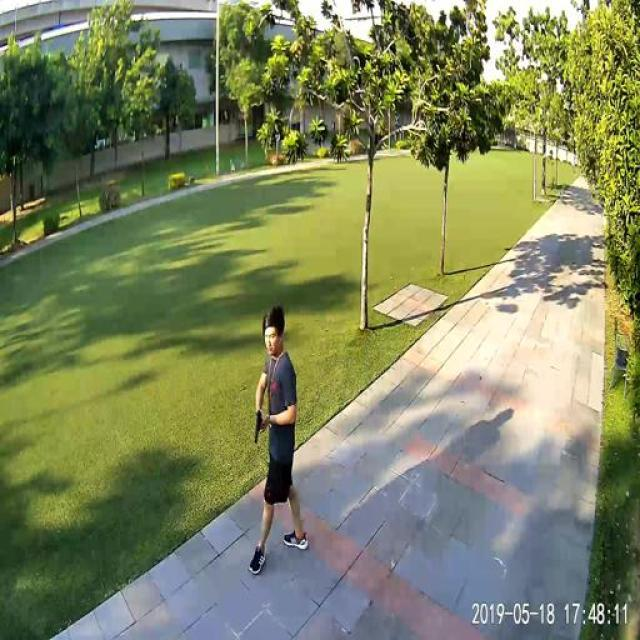Gun: (250, 408, 272, 457)
